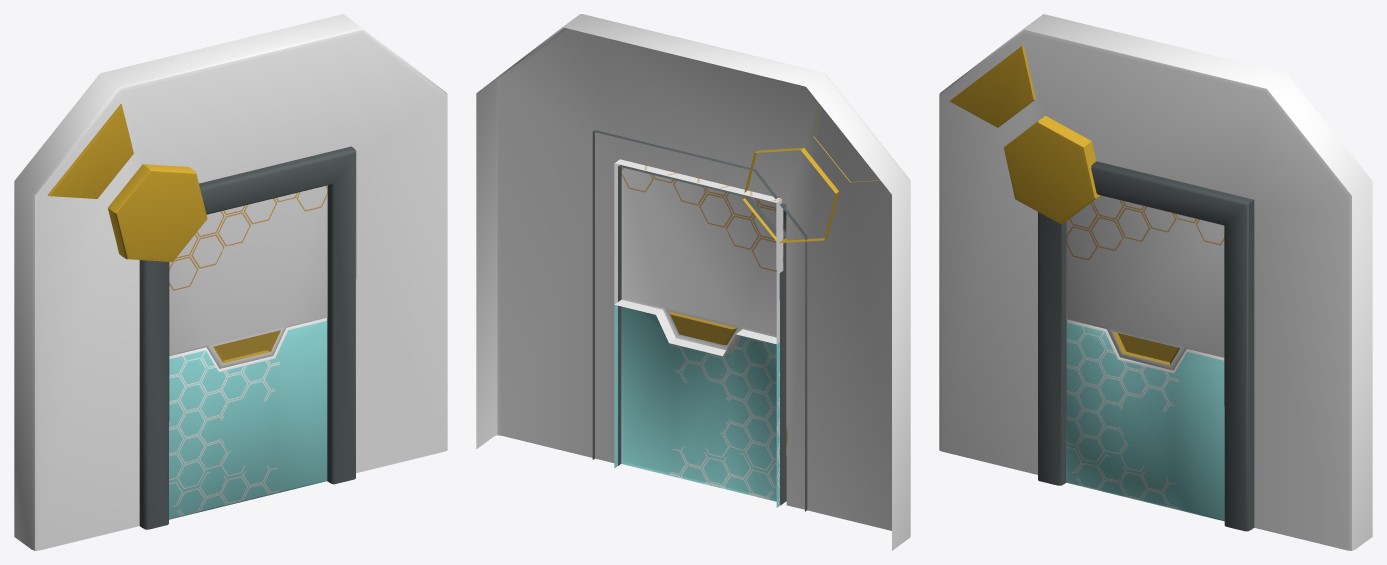
File: Prop_door.fbx
The picture shows the model from 3 angles, left to right: view 1: azimuth 30°, elevation 25°; view 2: azimuth 150°, elevation 25°; view 3: azimuth 330°, elevation 25°; orthographic projection.
Parts seen in each view (by area): view 1: puerta.004; view 2: puerta.004; view 3: puerta.004.
Boxes of the visible parts, x1,y1,x2,y2 form: puerta.004: [14, 14, 447, 550]; puerta.004: [476, 14, 910, 550]; puerta.004: [939, 14, 1372, 550].
Bounding box in the file's own units: 129 × 132 × 15.38.
